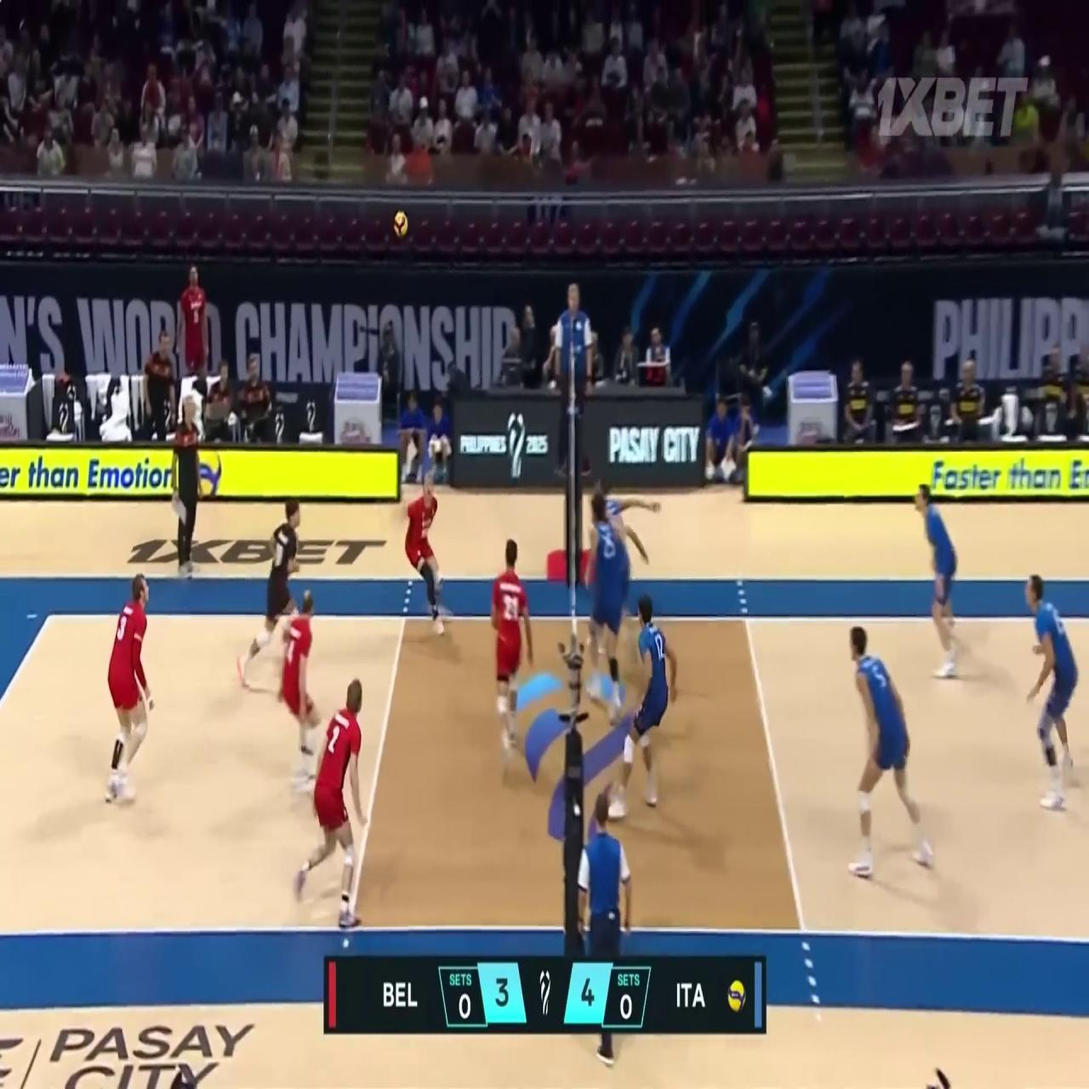ball: (394, 211, 409, 237)
